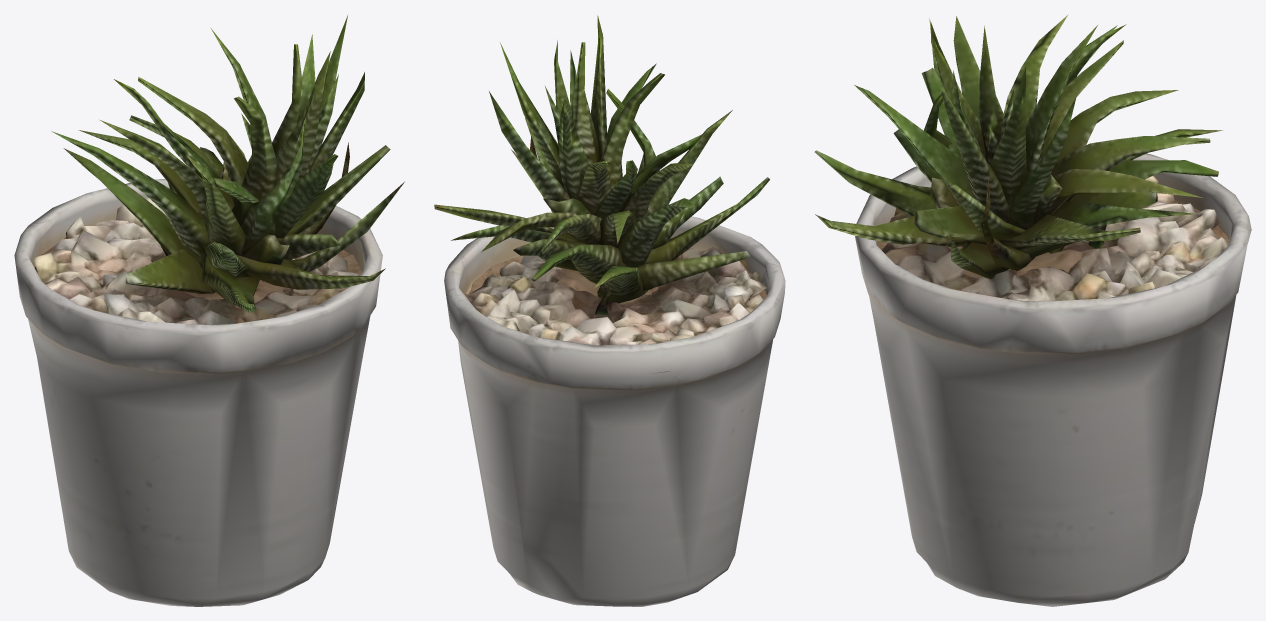
The model's file is succulent.glb.
3 renders of one model, left to right at view 1: azimuth 30°, elevation 25°; view 2: azimuth 150°, elevation 25°; view 3: azimuth 270°, elevation 25°, orthographic. The views are drawn at different scales.
Visible parts, largest first — view 1: potted_plant_04_ground; view 2: potted_plant_04_ground; view 3: potted_plant_04_ground.
Boxes of the visible parts, x1,y1,x2,y2 form: potted_plant_04_ground: (14,15,404,606); potted_plant_04_ground: (434,15,785,606); potted_plant_04_ground: (814,14,1251,606).
Bounding box in the file's own units: 0.1672 × 0.2672 × 0.1845.
1 material, 1 textured.
